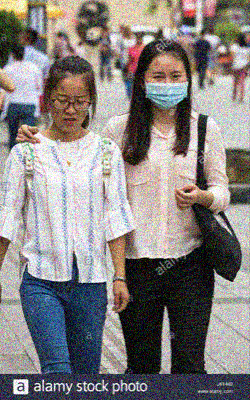with_mask: (143, 67, 189, 109)
without_mask: (47, 89, 90, 132)
